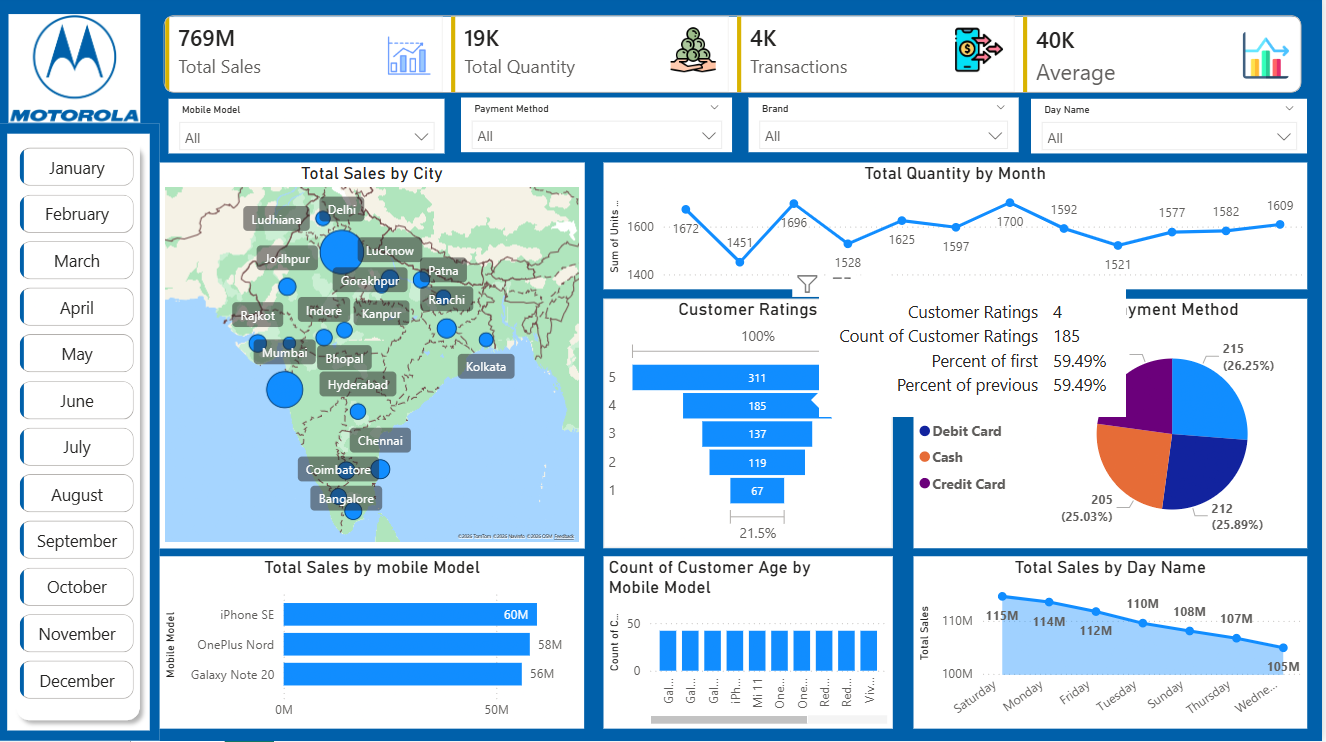

What the dashboard file says about the page in this screenshot:
{"tool":"powerbi","page":{"name":"Page 1","canvas":[1280,720],"ordinal":0},"visuals":[{"type":"image","box":[12.3,0,127.2,142],"z":0},{"type":"shape","box":[1.2,124.7,156.8,595.1],"z":1000},{"type":"advancedSlicerVisual","fields":{"Values":["Sales_Data.Date.Variation.Date Hierarchy.Month"]},"box":[18.5,142,121,546.9],"z":2000},{"type":"cardVisual","fields":{"Data":["Sales_Data.Total Sales","Sales_Data.Total Quantity","Sales_Data.Transactions","Sales_Data.Average"]},"box":[156.8,14.8,1108.6,85.2],"z":3000},{"type":"azureMap","fields":{"Category":["Sales_Data.City"],"Size":["Sales_Data.Total Sales"]},"box":[158,161.7,409.9,371.6],"z":3001},{"type":"lineChart","title":"Total Quantity by Month","fields":{"Category":["Sales_Data.Date.Variation.Date Hierarchy.Month","Sales_Data.Date.Variation.Date Hierarchy.Day"],"Y":["Sum(Sales_Data.Units Sold)"]},"box":[586.4,161.7,679,122.2],"z":3002},{"type":"clusteredBarChart","title":"Total Sales by mobile Model","fields":{"Category":["Sales_Data.Mobile Model"],"Y":["Sales_Data.Total Sales"]},"box":[158,542,409.9,166.7],"z":3003},{"type":"pieChart","title":"Transactions by Payment Method","fields":{"Category":["Sales_Data.Payment Method"],"Y":["Sales_Data.Transactions"]},"box":[885.2,292.6,380.2,240.7],"z":3004},{"type":"funnel","title":"Customer Ratings","fields":{"Category":["Sales_Data.Customer Ratings"],"Y":["CountNonNull(Sales_Data.Customer Ratings)"]},"box":[586.4,292.6,279,240.7],"z":3005},{"type":"areaChart","fields":{"Category":["Sales_Data.Day Name"],"Y":["Sales_Data.Total Sales"]},"box":[885.2,542,380.2,166.7],"z":3006},{"type":"clusteredColumnChart","fields":{"Category":["Sales_Data.Mobile Model"],"Y":["Count(Sales_Data.Customer Age)"]},"box":[586.4,542,279,166.7],"z":3007},{"type":"slicer","fields":{"Values":["Sales_Data.Mobile Model"]},"box":[166.7,100,266.7,53.1],"z":3008},{"type":"slicer","fields":{"Values":["Sales_Data.Payment Method"]},"box":[449.4,98.8,261.7,53.1],"z":3009},{"type":"slicer","fields":{"Values":["Sales_Data.Brand"]},"box":[725.9,98.8,260.5,53.1],"z":3010},{"type":"slicer","fields":{"Values":["Sales_Data.Day Name"]},"box":[998.8,100,266.7,53.1],"z":3011}]}

Visuals, with their boxes in screenshot pixels (x1, y1, x2, y2), scaled from the page's 1280x720 canvas onto the 1326x742 screenshot:
image: bbox=[13, 0, 145, 146]
shape: bbox=[1, 129, 164, 741]
advancedSlicerVisual - Sales_Data.Date.Variation.Date Hierarchy.Month: bbox=[19, 146, 145, 710]
cardVisual - Sales_Data.Total Sales x Sales_Data.Total Quantity: bbox=[162, 15, 1311, 103]
azureMap - Sales_Data.City x Sales_Data.Total Sales: bbox=[164, 167, 588, 550]
"Total Quantity by Month" lineChart: bbox=[607, 167, 1311, 293]
"Total Sales by mobile Model" clusteredBarChart: bbox=[164, 559, 588, 730]
"Transactions by Payment Method" pieChart: bbox=[917, 302, 1311, 550]
"Customer Ratings" funnel: bbox=[607, 302, 897, 550]
areaChart - Sales_Data.Day Name x Sales_Data.Total Sales: bbox=[917, 559, 1311, 730]
clusteredColumnChart - Sales_Data.Mobile Model x Count(Sales_Data.Customer Age): bbox=[607, 559, 897, 730]
slicer - Sales_Data.Mobile Model: bbox=[173, 103, 449, 158]
slicer - Sales_Data.Payment Method: bbox=[466, 102, 737, 157]
slicer - Sales_Data.Brand: bbox=[752, 102, 1022, 157]
slicer - Sales_Data.Day Name: bbox=[1035, 103, 1311, 158]
